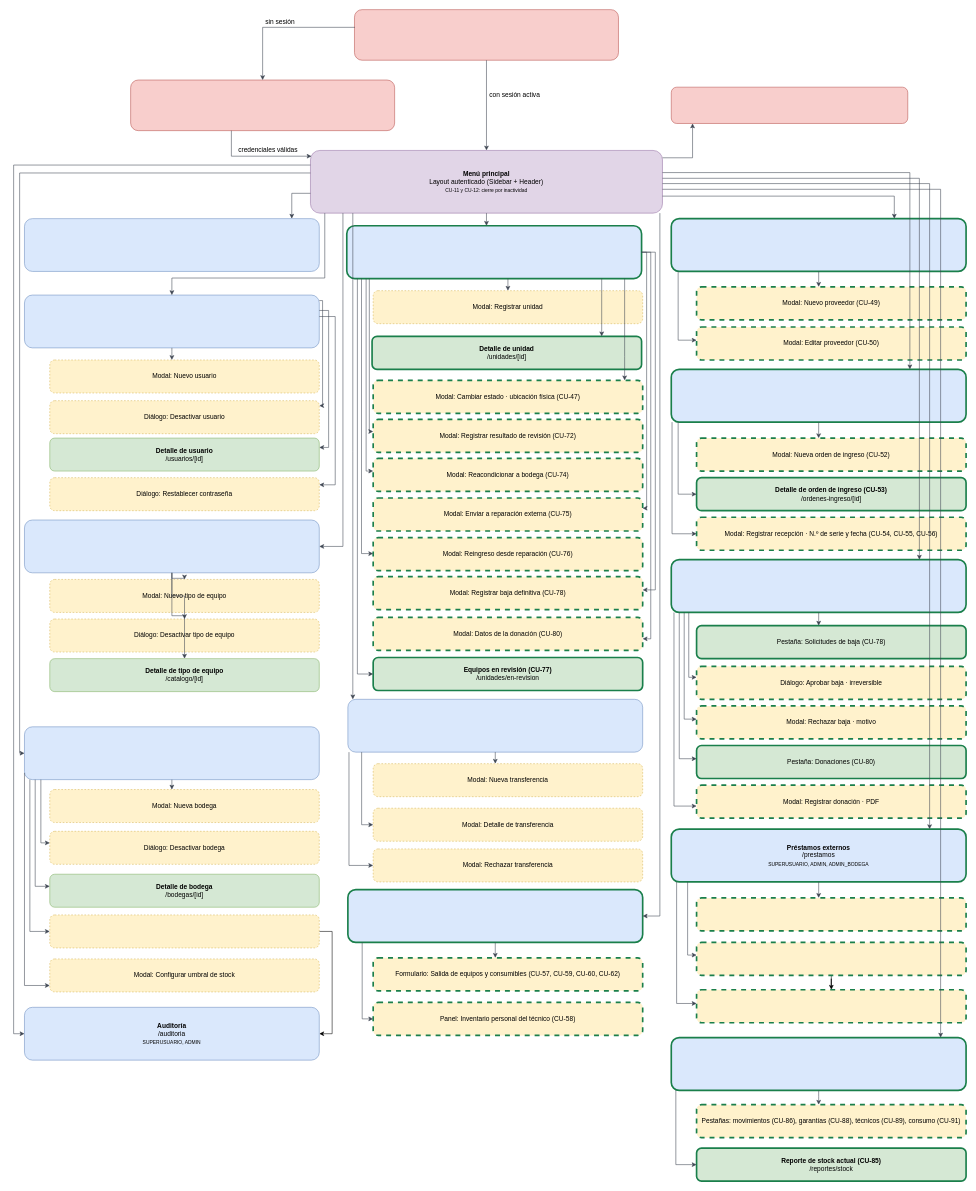
The diagram is 976 pixels wide and 1191 high, and some of its shapes have lost their labels. The shapes that lost their labels are listed below. From the top down, each one's box as (x1, y1, x2, y2) in pixels, then its label:
(354, 9, 618, 60): Raíz / (redirección según sesión)
(130, 79, 395, 131): Inicio de sesión /login
(671, 87, 908, 123): Cerrar sesión (vuelve a /login)
(24, 218, 319, 271): Dashboard /dashboard SUPERUSUARIO, ADMIN
(346, 225, 642, 279): Unidades de Equipo /unidades Todos los roles
(670, 218, 967, 272): Proveedores /proveedores SUPERUSUARIO, ADMIN, ADMIN_BODEGA
(24, 295, 319, 348): Usuarios /usuarios SUPERUSUARIO, ADMIN
(670, 368, 967, 423): Órdenes de ingreso /ordenes-ingreso SUPERUSUARIO, ADMIN, ADMIN_BODEGA
(24, 519, 319, 573): Catálogo de Equipos /catalogo SUPERUSUARIO, ADMIN, ADMIN_BODEGA
(670, 559, 967, 613): Bajas /bajas Todos los roles · resolver: S, A
(347, 699, 643, 752): Transferencias /transferencias SUPERUSUARIO, ADMIN
(24, 726, 319, 780): Bodegas /bodegas SUPERUSUARIO, ADMIN, ADMIN_BODEGA
(49, 914, 319, 948): Modal: Editar bodega
(347, 889, 643, 943): Salidas a técnico /salidas Todos los roles · registro: S, A, B
(695, 897, 967, 931): Modal: Nuevo préstamo externo (CU-81)
(695, 941, 967, 976): Modal: Ver detalle del préstamo (CU-83)
(695, 989, 967, 1023): Modal: Registrar retorno (CU-82, CU-84)
(670, 1036, 967, 1091): Reportes /reportes SUPERUSUARIO, ADMIN, ADMIN_BODEGA
